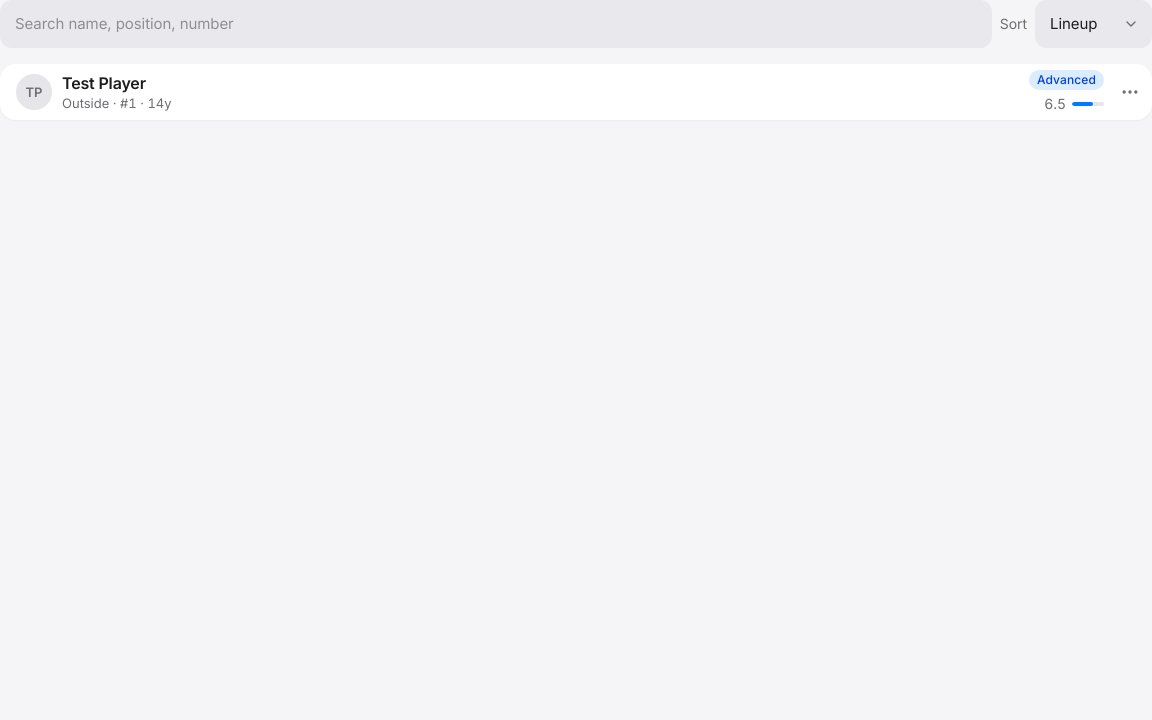
Scenario: TeamRosterTable › Remove… from a row menu opens the confirmation and never deletes directly
Step 1. Click the button named "Actions for Test Player" → (1130, 92), box [1108,70,1151,114]
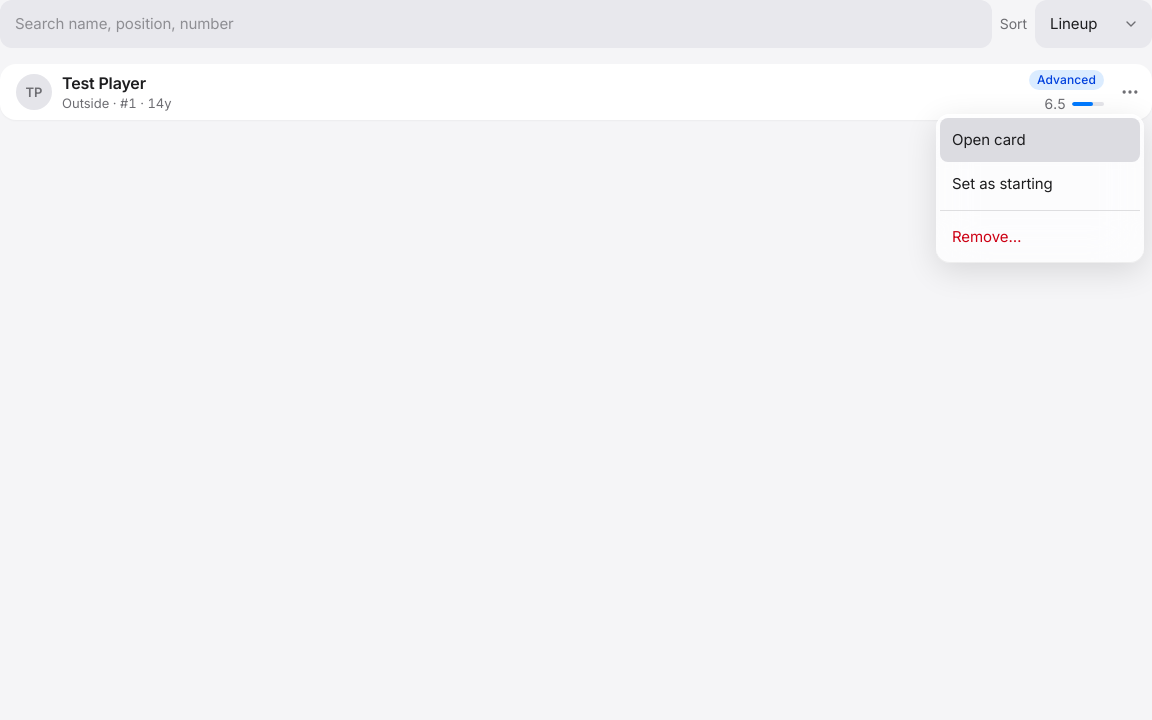
Step 2. Click the menu item "Remove…" → (1040, 237), box [940,215,1140,259]
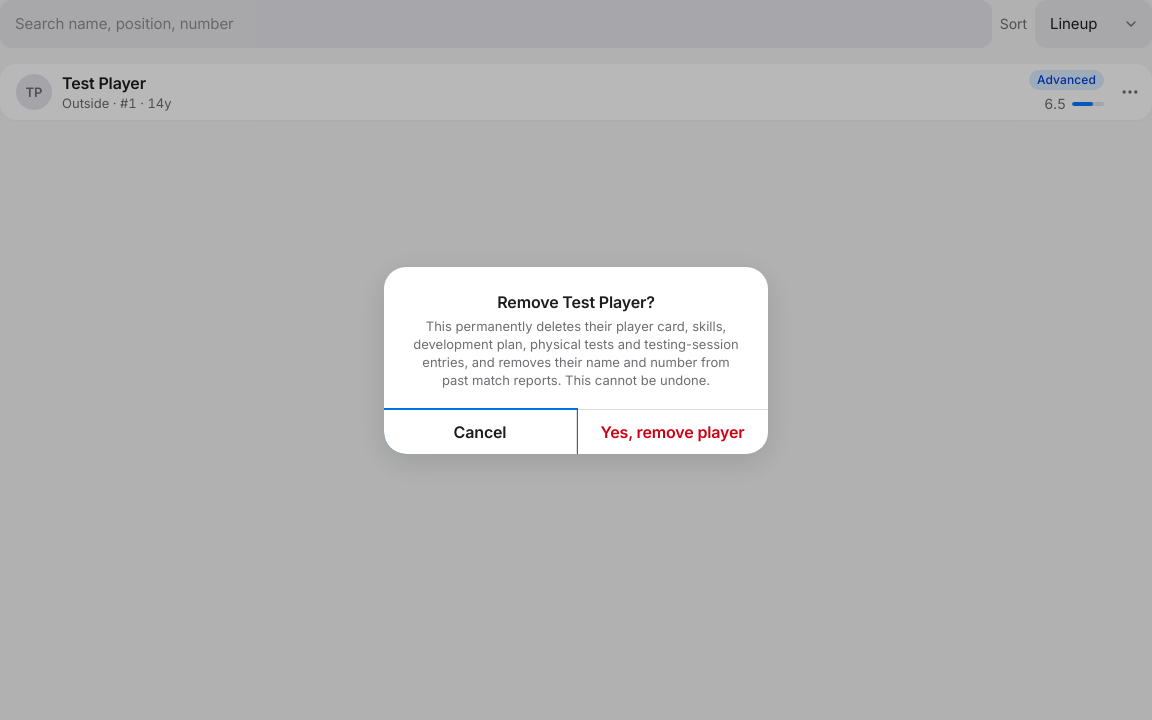
Expected: the button "Yes, remove player" is shown, [576,410,768,454]
